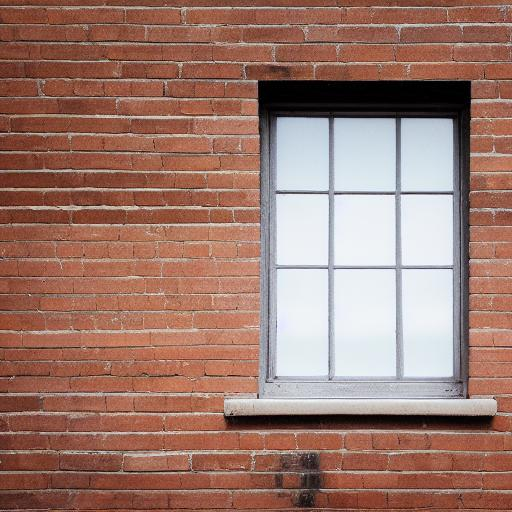Window: (223, 73, 502, 426)
